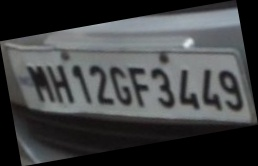character: (25, 64, 57, 103), (46, 63, 74, 103), (88, 63, 115, 104), (217, 68, 242, 112), (149, 65, 174, 108), (127, 65, 150, 108), (108, 64, 132, 105), (178, 67, 200, 110), (69, 62, 92, 103), (201, 67, 222, 109)
